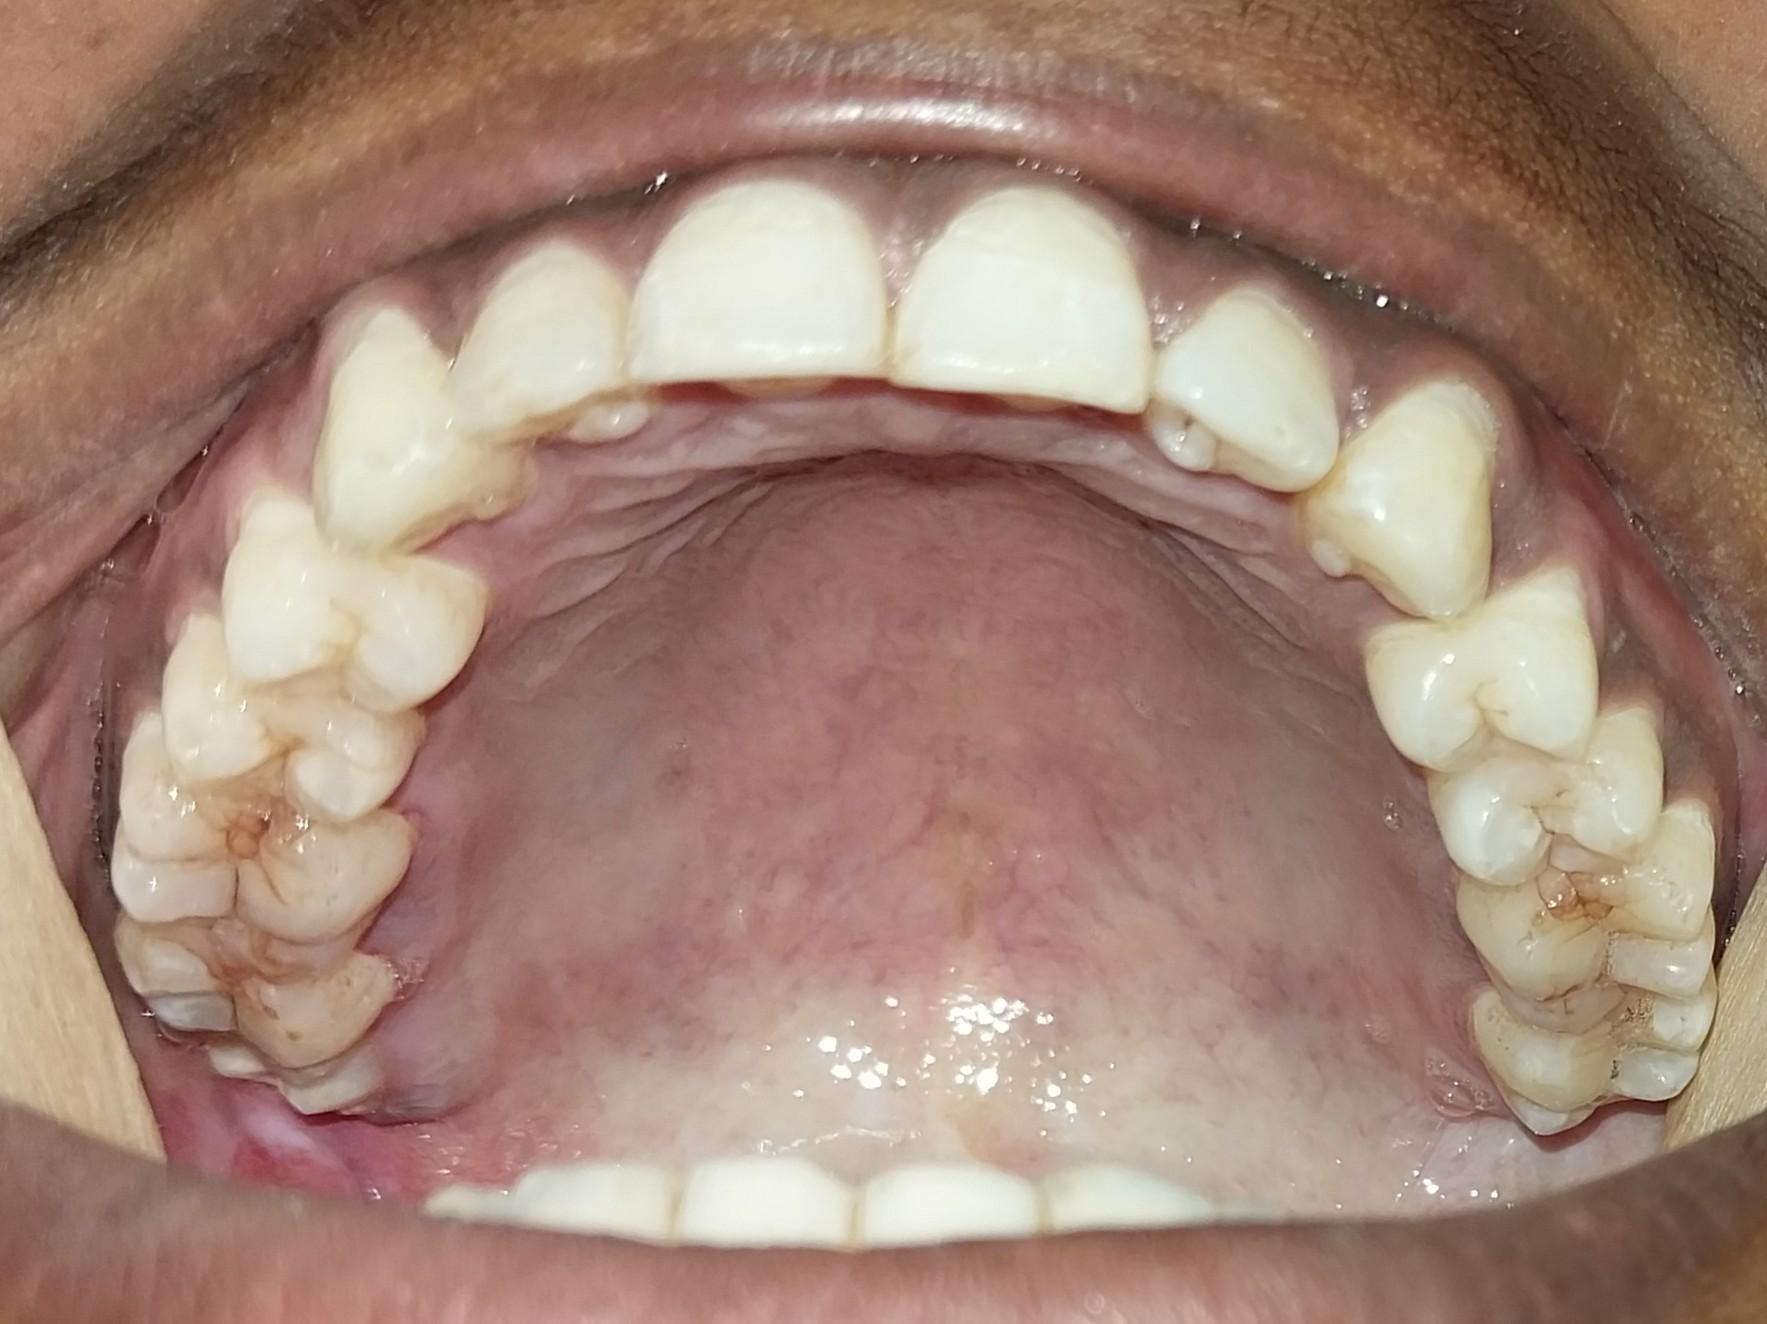D: (110, 748, 413, 957), (1460, 839, 1724, 1025), (113, 909, 408, 1073)
